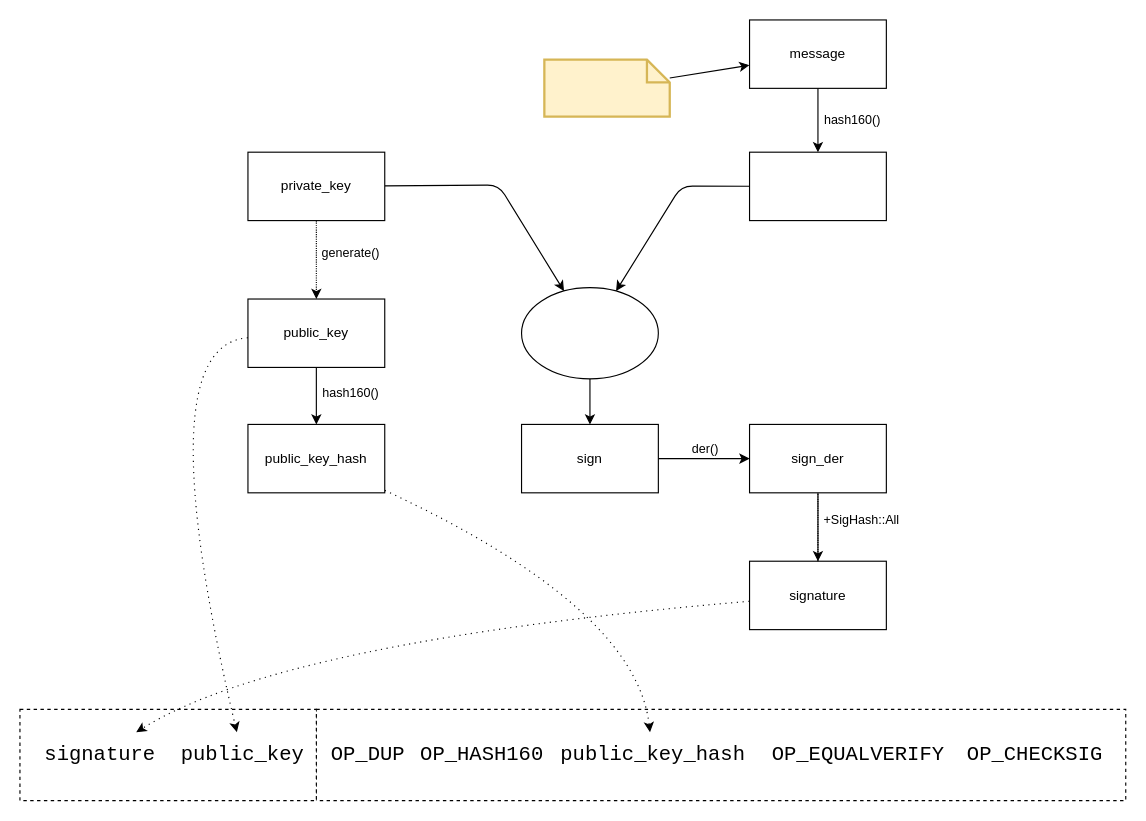
Image size: 1146x821. Some labels were removed from this diagram. The shapes that lost their labels are listed below. From the top down, each one's centre as x and y in pixels, then its label:
At point (606, 87): "serialized transaction".
At point (817, 186): "message_hash (z)".
At point (589, 332): "sign(z)".
